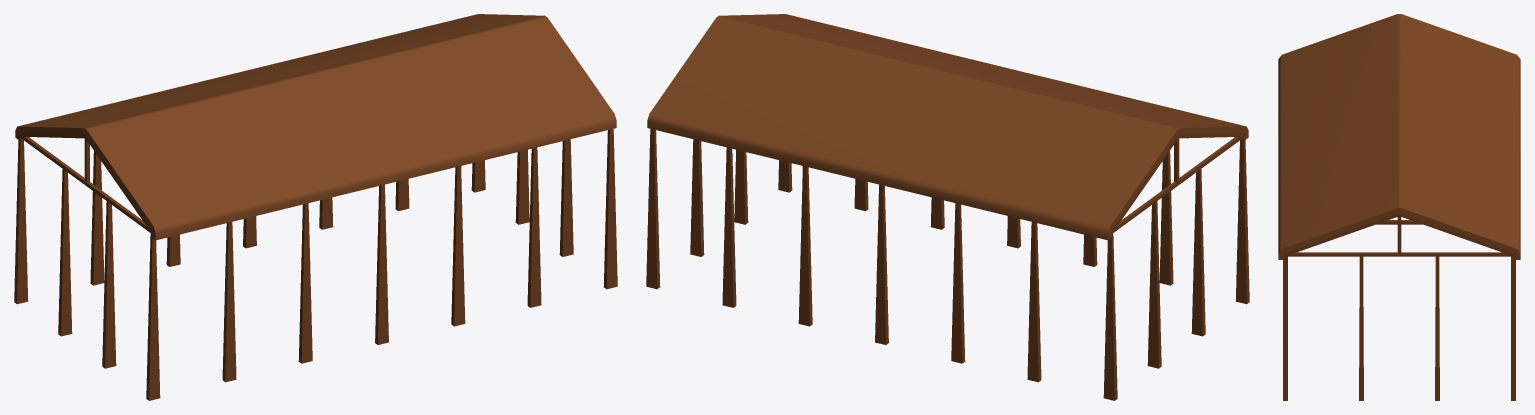
File: Pergolas and open houses(3).glb
3 views of the same model, side by side, from view 1: azimuth 30°, elevation 25°; view 2: azimuth 150°, elevation 25°; view 3: azimuth 270°, elevation 25° (orthographic). The views are drawn at different scales.
Parts seen in each view (by area): view 1: Root; view 2: Root; view 3: Root.
Boxes of the visible parts, x1=… form: Root: x1=14, y1=14, x2=617, y2=400; Root: x1=646, y1=14, x2=1249, y2=400; Root: x1=1278, y1=14, x2=1520, y2=400.
Bounding box in the file's own units: 10.35 × 4.68 × 5.38.
